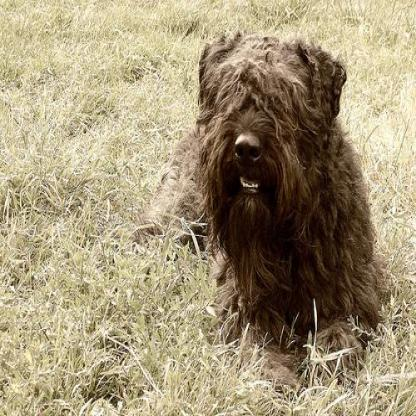Bouvier_des_Flandres: (125, 26, 390, 396)
